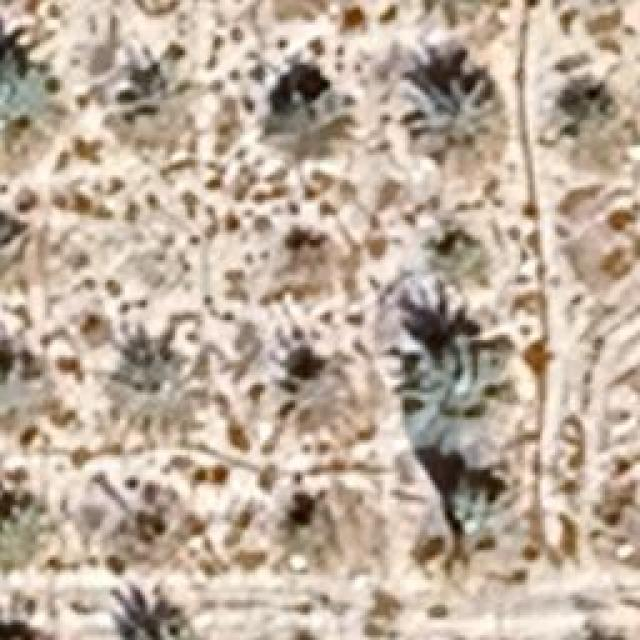PalmTree: (75, 78, 456, 267), (78, 78, 592, 116), (400, 340, 520, 460), (408, 75, 510, 170), (108, 61, 212, 149), (286, 357, 374, 445), (412, 482, 498, 570), (262, 70, 346, 152), (266, 223, 348, 296), (118, 348, 196, 424), (0, 60, 70, 130), (0, 338, 45, 424), (0, 492, 50, 566), (120, 595, 202, 640), (396, 0, 502, 27), (0, 201, 30, 281), (0, 201, 20, 284), (0, 606, 44, 640), (560, 622, 630, 638), (0, 614, 39, 640)
